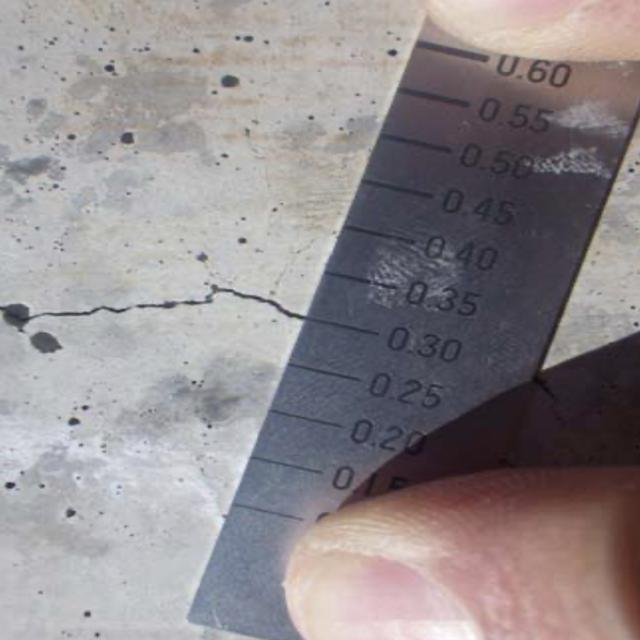crack: (6, 274, 311, 367)
